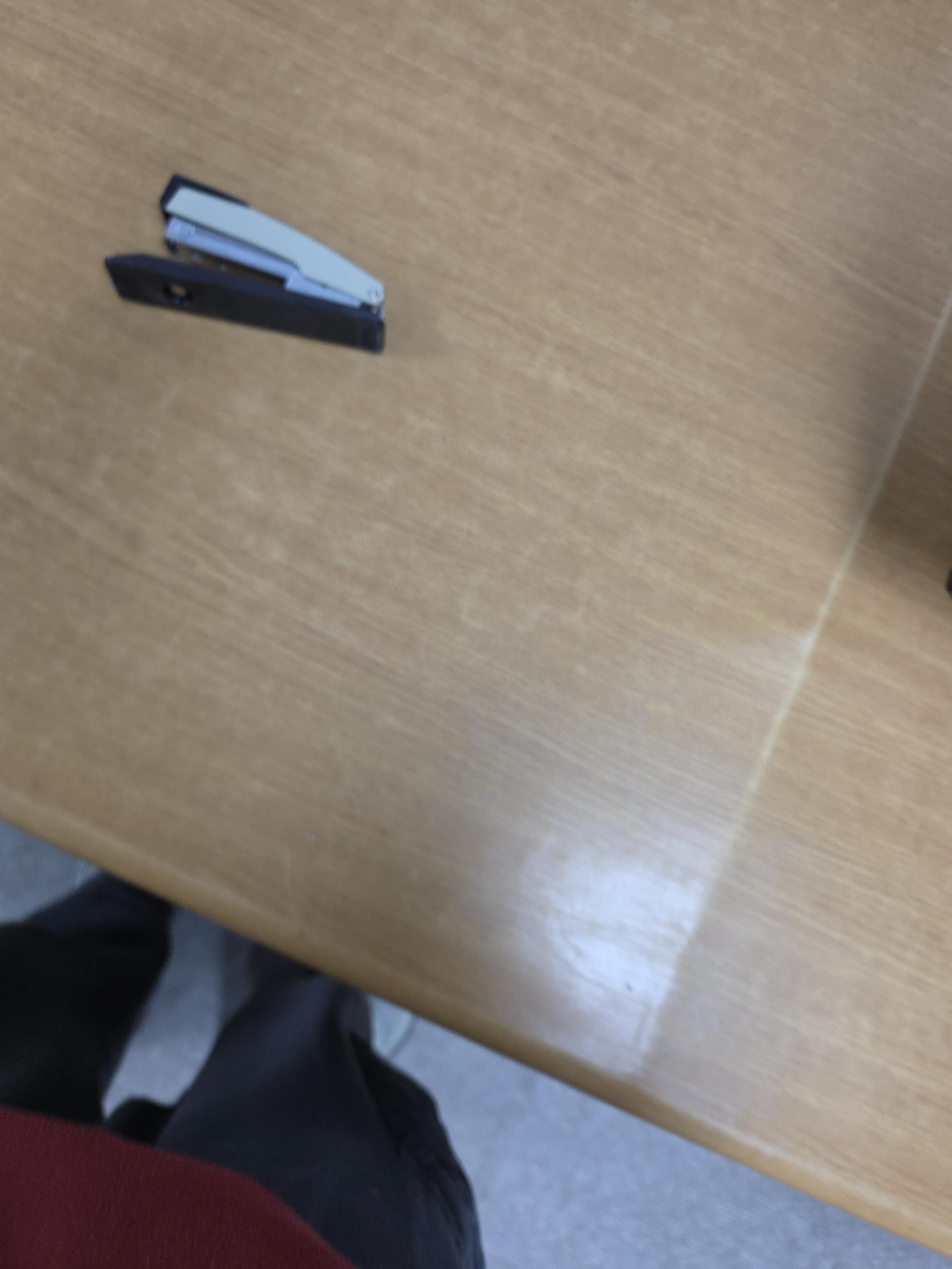stapler: (103, 173, 386, 355)
